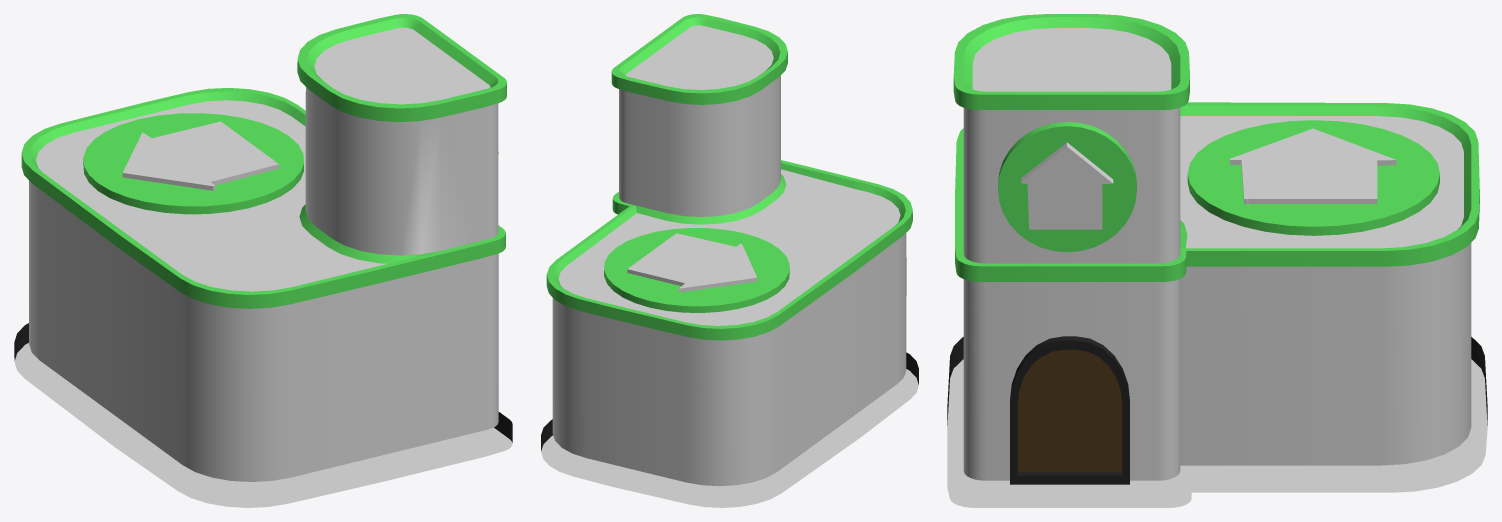
Rendered from home.glb.
The picture shows the model from 3 angles, left to right: view 1: azimuth 30°, elevation 25°; view 2: azimuth 150°, elevation 25°; view 3: azimuth 270°, elevation 25°; orthographic projection. The views are drawn at different scales.
Parts seen in each view (by area): view 1: Home; view 2: Home; view 3: Home.
Part boxes in pixels (x1,y1,x2,y2): Home: [14, 14, 512, 507]; Home: [541, 14, 918, 507]; Home: [947, 14, 1487, 507].
Bounding box in the file's own units: 5.15 × 5.71 × 6.79.
